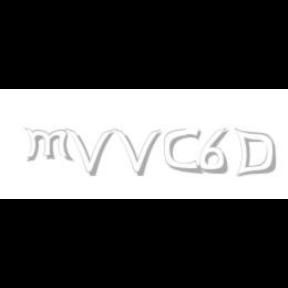6: (200, 128, 228, 176)
C: (164, 128, 201, 174)
D: (234, 128, 276, 178)
V: (66, 128, 114, 176), (113, 128, 161, 176)
m: (23, 128, 75, 162)
